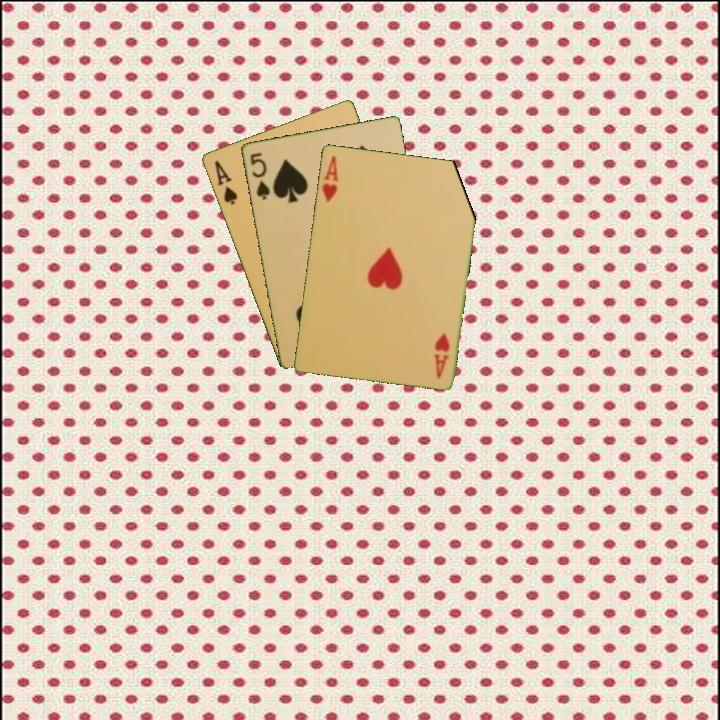5s: (246, 149, 273, 202)
Ah: (318, 152, 341, 204), (431, 329, 452, 381)
As: (211, 157, 240, 208)
